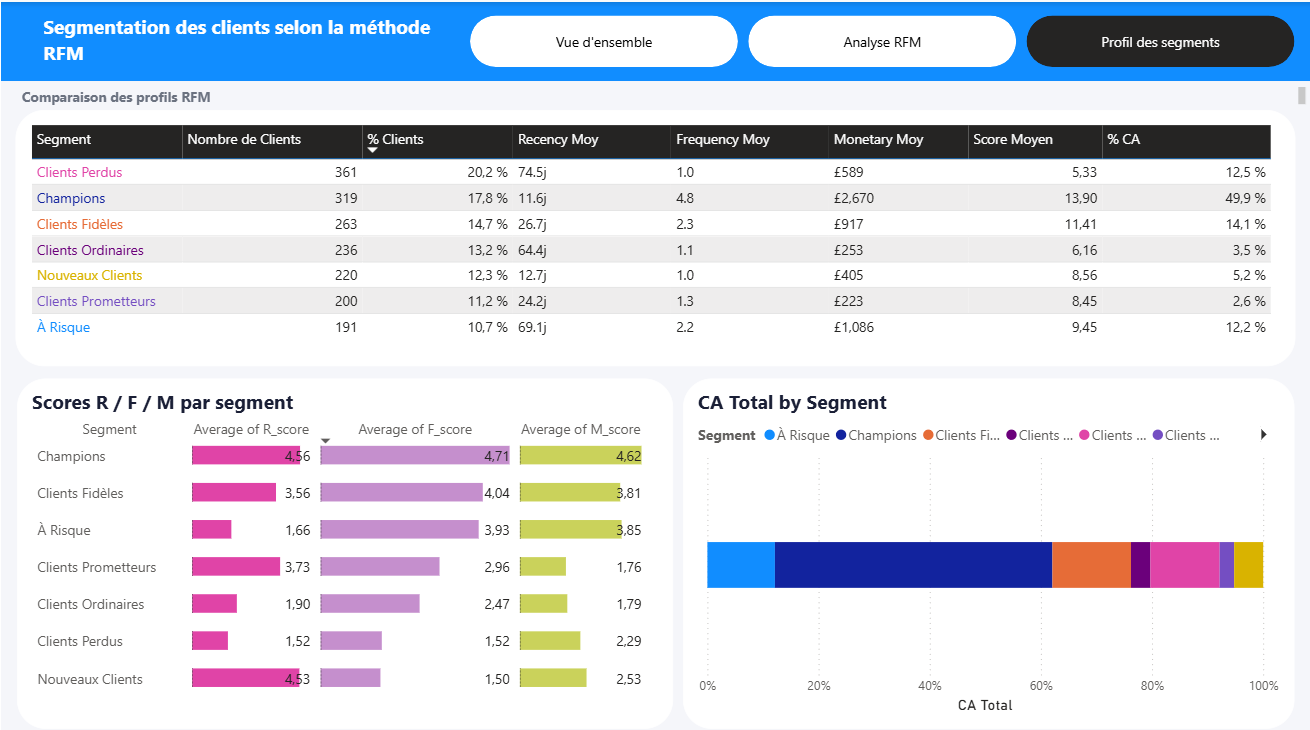

What the dashboard file says about the page in this screenshot:
{"tool":"powerbi","page":{"name":"Profil des segments","canvas":[1280,720],"ordinal":2},"visuals":[{"type":"shape","box":[0,0,1280,76.7],"z":0},{"type":"textbox","box":[43.6,6.4,420,63.6],"z":1000},{"type":"pageNavigator","box":[463.3,13.3,800,50],"z":2000},{"type":"textbox","box":[23.3,76.7,320,35],"z":3000},{"type":"tableEx","fields":{"Values":["rfm_final.Segment","rfm_final.Nombre de Clients","rfm_final.% Clients","rfm_final.Recency Moy","rfm_final.Frequency Moy","rfm_final.Monetary Moy","rfm_final.Score Moyen","rfm_final.% CA"]},"box":[21.7,105,1241.7,248.3],"z":4000},{"type":"hundredPercentStackedBarChart","fields":{"Y":["rfm_final.CA Total"],"Series":["rfm_final.Segment"]},"box":[670,365,593.3,340],"z":5000},{"type":"pivotTable","title":"Scores R / F / M par segment","fields":{"Rows":["rfm_final.Segment"],"Values":["Avg(rfm_final.R_score)","Avg(rfm_final.F_score)","Avg(rfm_final.M_score)"]},"box":[23.3,365,636.7,340],"z":6000}]}

Visuals, with their boxes in screenshot pixels (x1, y1, x2, y2), scaled from the page's 1280x720 canvas onto the 1310x730 screenshot:
shape: rect(0, 0, 1309, 78)
textbox: rect(45, 6, 474, 71)
pageNavigator: rect(474, 13, 1293, 64)
textbox: rect(24, 78, 351, 113)
tableEx - rfm_final.Segment x rfm_final.Nombre de Clients: rect(22, 106, 1293, 358)
hundredPercentStackedBarChart - rfm_final.CA Total x rfm_final.Segment: rect(686, 370, 1293, 715)
"Scores R / F / M par segment" pivotTable: rect(24, 370, 675, 715)
